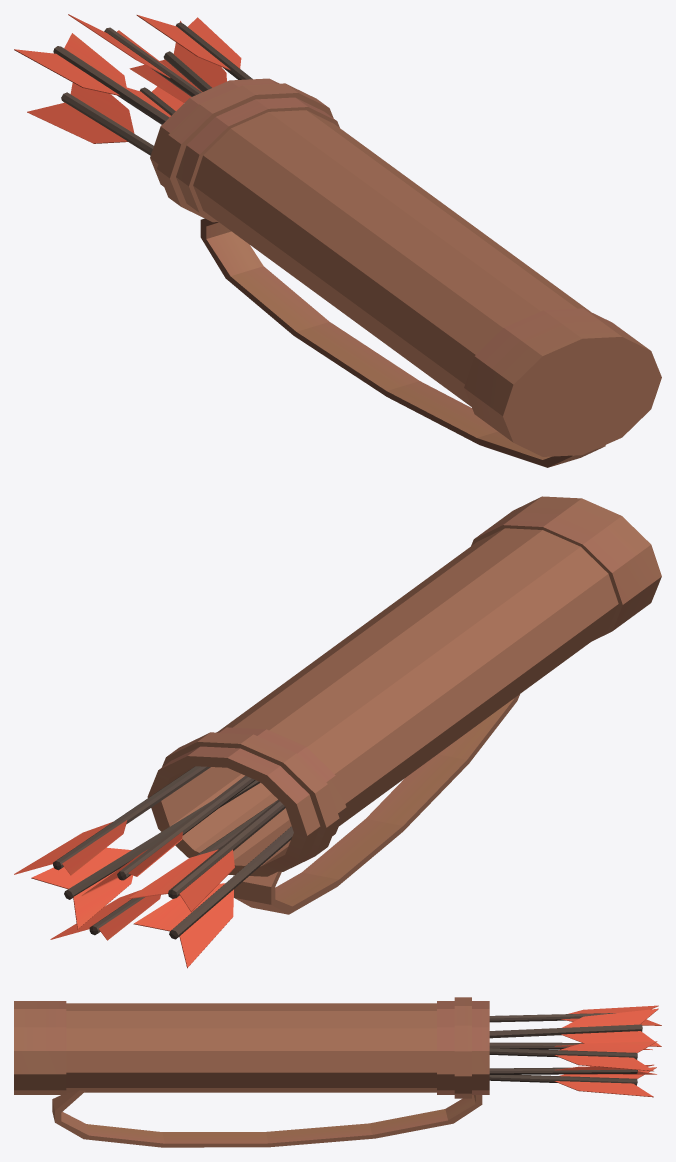
Rendered from quiver_b.glb.
The picture shows the model from 3 angles, top to bottom: view 1: azimuth 30°, elevation 25°; view 2: azimuth 150°, elevation 25°; view 3: azimuth 270°, elevation 25°; orthographic projection. The views are drawn at different scales.
Parts seen in each view (by area): view 1: Quiver; view 2: Quiver; view 3: Quiver.
Part boxes in pixels (x1,y1,x2,y2): Quiver: [14, 14, 661, 467]; Quiver: [14, 496, 661, 968]; Quiver: [14, 997, 661, 1147].
Size of the model in its own units: 0.1513 by 0.1583 by 0.7.
Materials: 1 (1 with a texture image).
